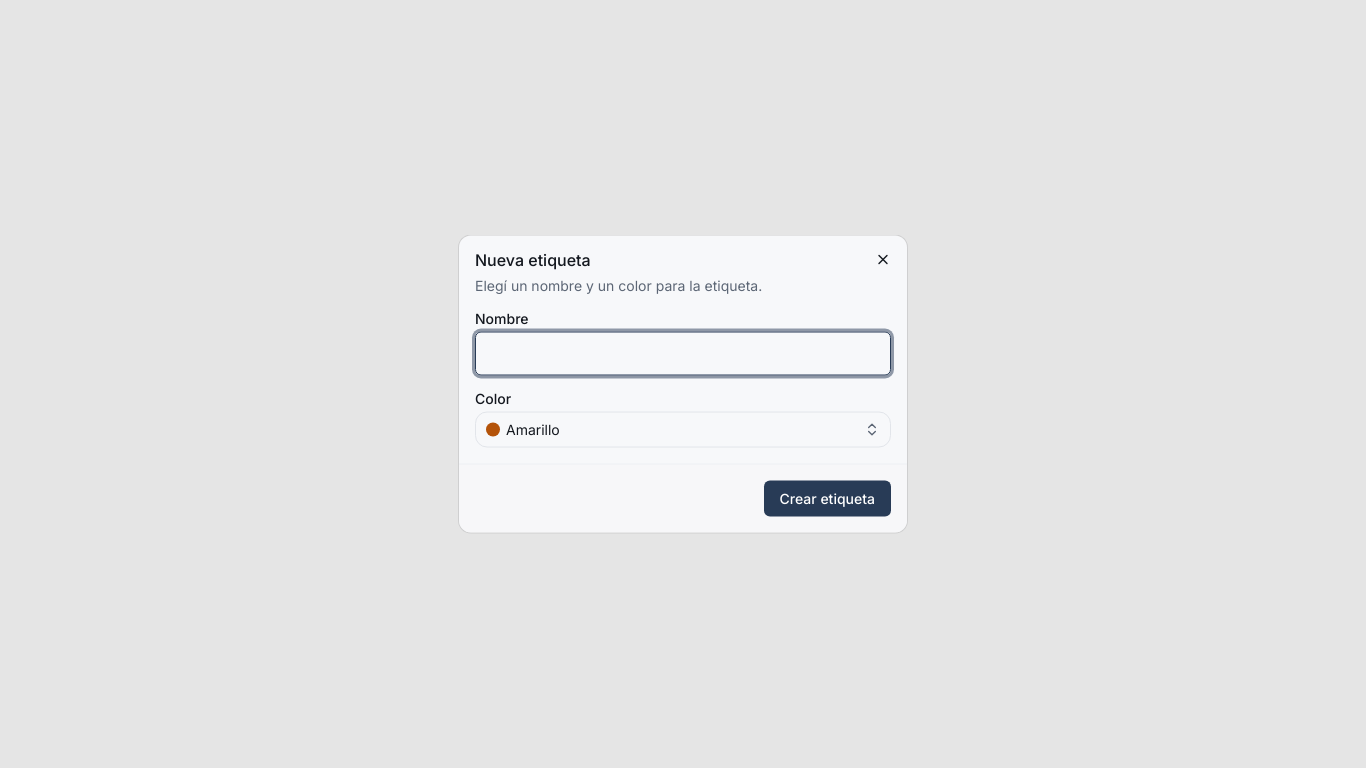
Test case: LabelFormDialog › muestra un error de validación cuando falta el nombre y no crea la etiqueta
Click the button "Crear etiqueta" at (827, 498), box [764,480,891,516]
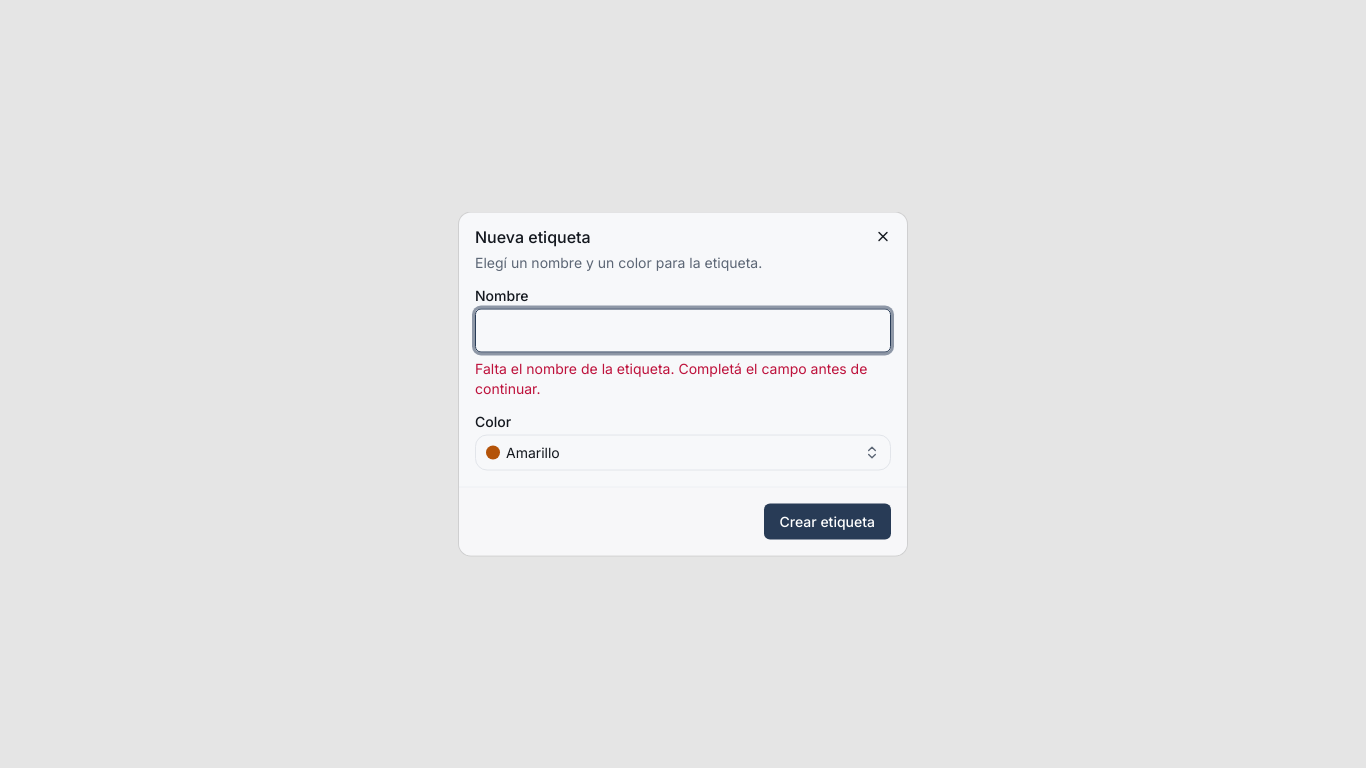
Result: the text "Falta el nombre de la etiqueta. Completá el campo antes de continuar." is shown at [475,358,891,398]
